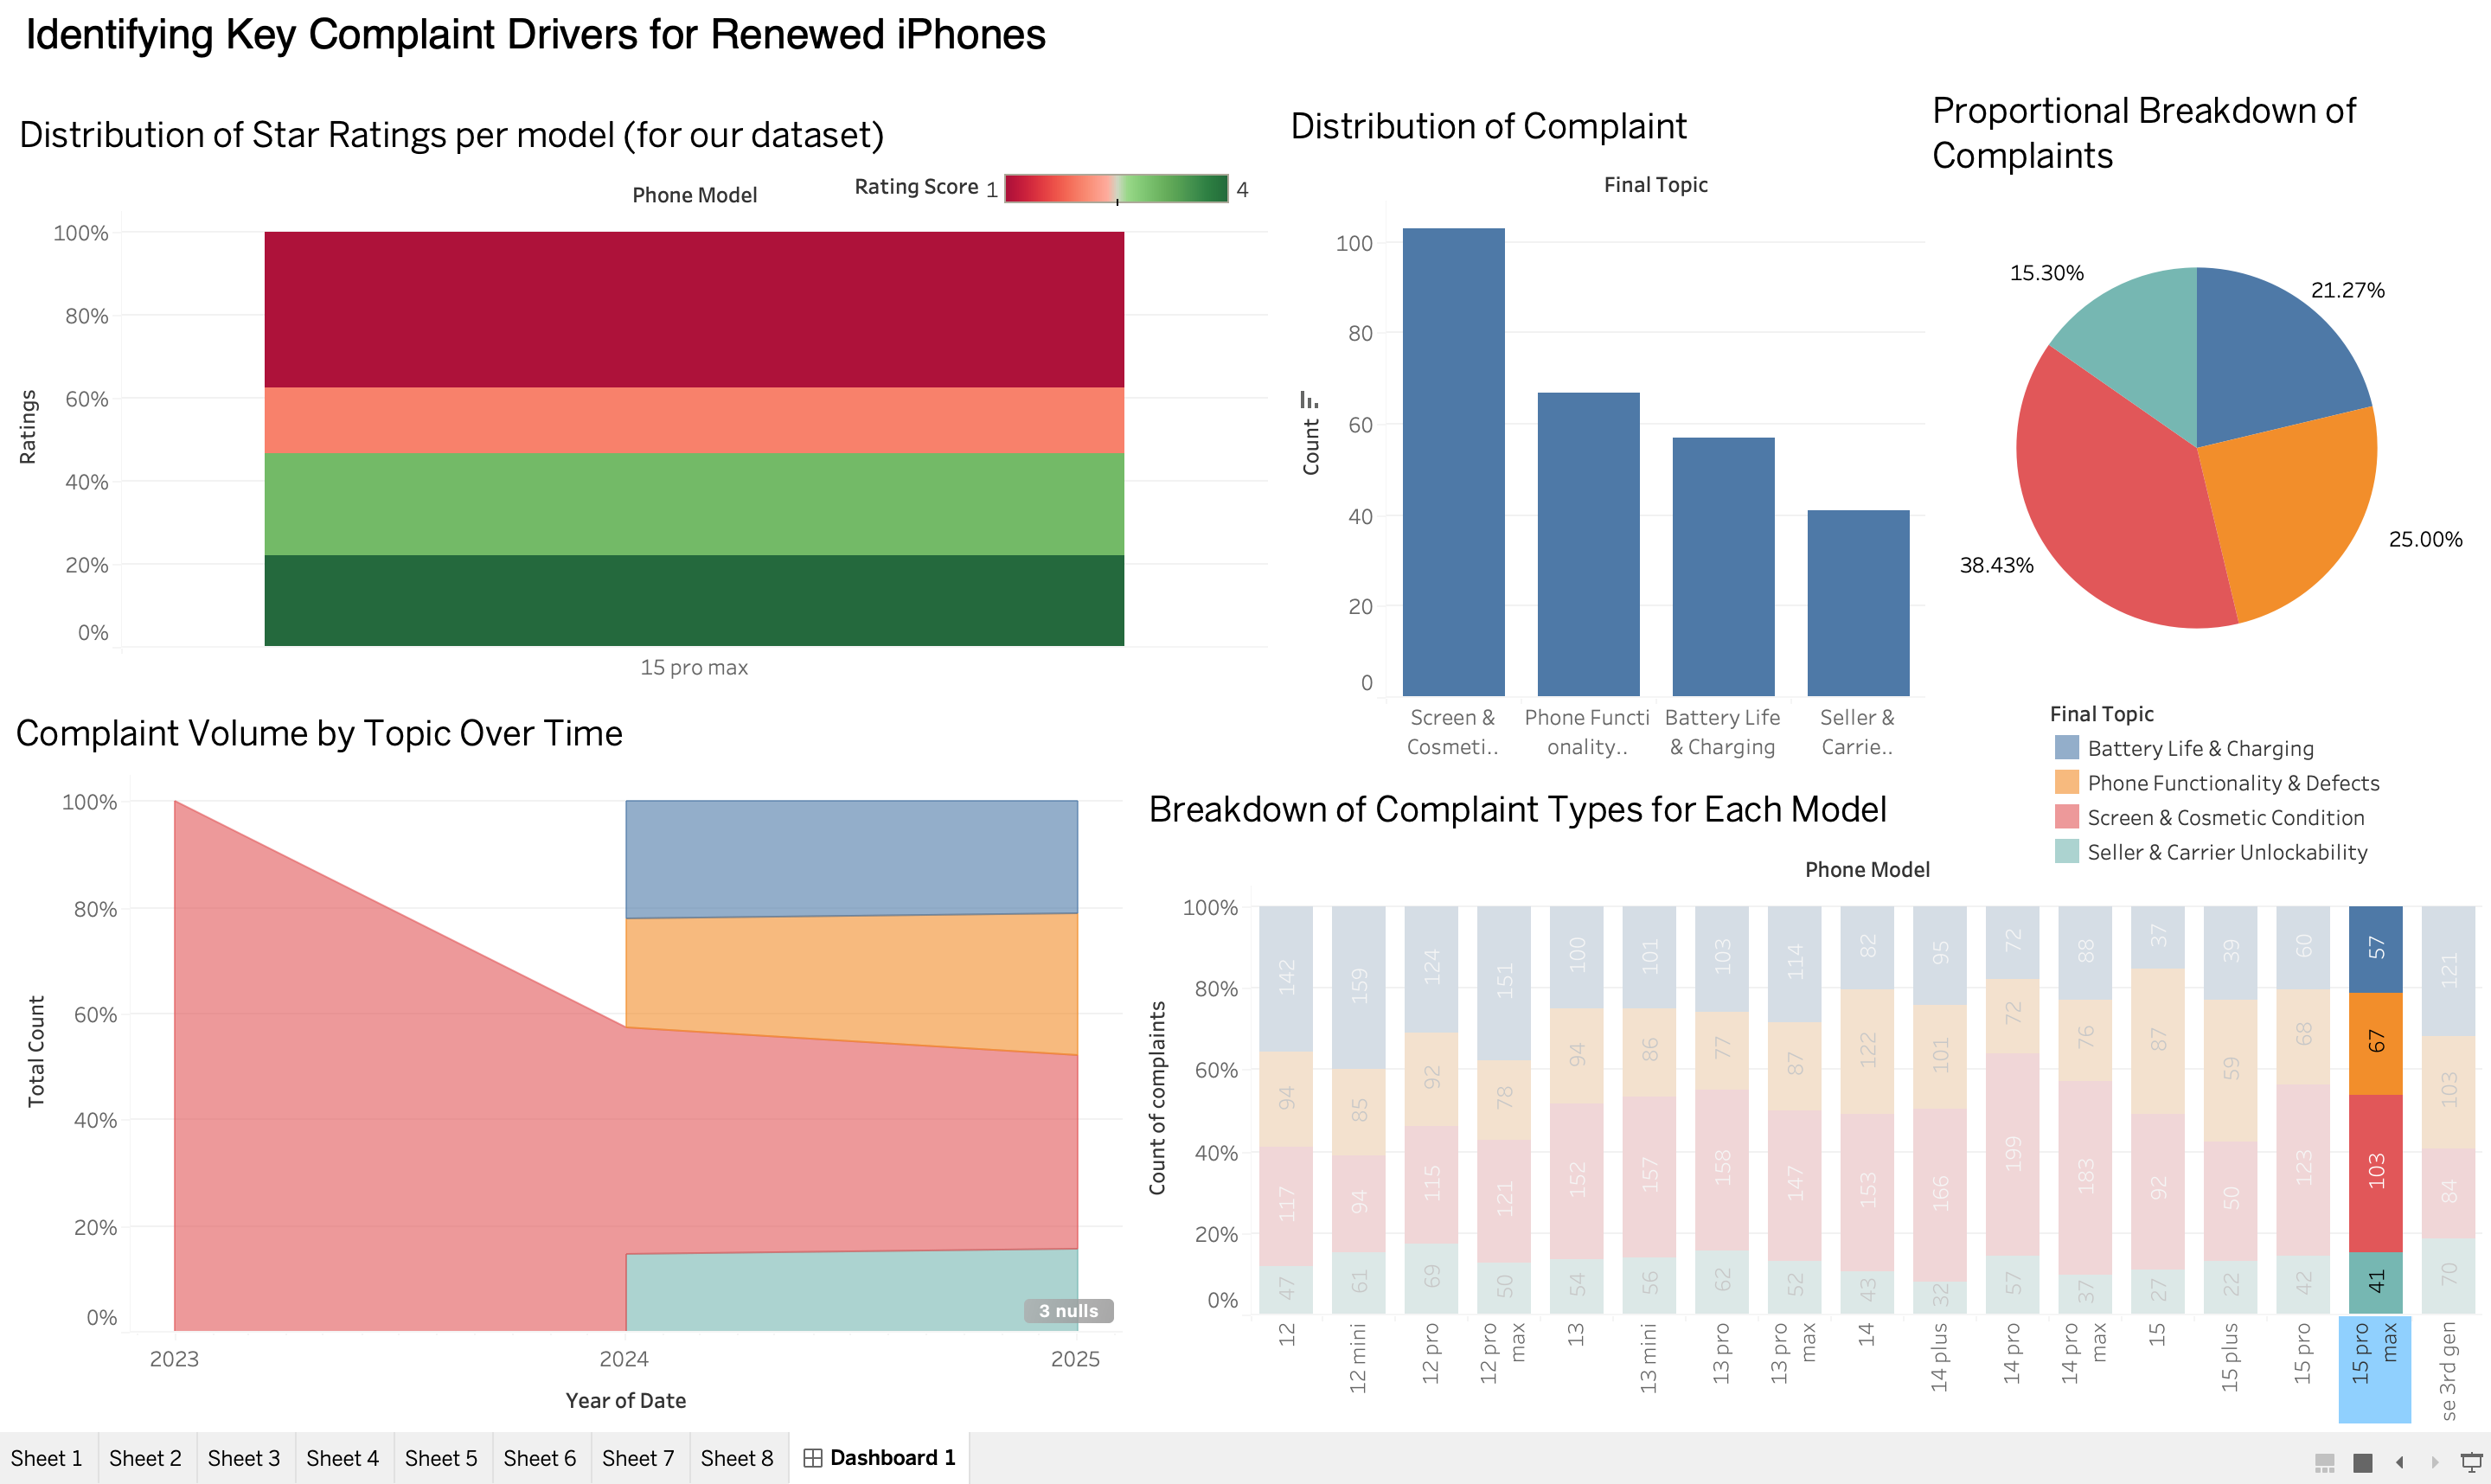

The page's visual inventory and layout, read from the dashboard file:
{"tool":"tableau","page":{"name":"Dashboard 1","canvas":[1000,1000],"units":"permille","ordinal":0},"visuals":[{"type":"title","box":[6.5,10.4,987,41.7]},{"type":"worksheet","title":"Sheet 2","mark":"Pie","box":[773,58.6,218.1,429.7]},{"type":"worksheet","title":"Sheet 1","mark":"Automatic","rows":["dashboard_ready_data.csv_B38BA18D6B454ACE9A420E0065C7907D"],"cols":["final_topic"],"box":[515,70.3,257.9,466.2]},{"type":"worksheet","title":"Sheet 5","mark":"Automatic","cols":["Calculation_100556971031543809"],"box":[4.9,75.5,504.5,425.8]},{"type":"legend","title":"Sheet 5","param":"[federated.1mf78hi1ex3jng1btt0pn013t43u].[none:ratingScore:qk]","box":[343.4,119.8,161.9,36.5]},{"type":"legend","title":"Sheet 4","param":"[federated.1mf78hi1ex3jng1btt0pn013t43u].[none:final_topic:nk]","box":[822.6,489.6,170.1,130.2]},{"type":"worksheet","title":"Sheet 4","mark":"Area","cols":["date"],"box":[3.2,492.2,447.5,503.9]},{"type":"worksheet","title":"Sheet 3","mark":"Automatic","cols":["Calculation_100556971031543809"],"box":[458.1,545.6,538.6,447.9]}]}

Visuals, with their boxes on the dashboard's canvas, which has no fixed pixel size, in thousandths of its width and height (x1, y1, x2, y2). These are canvas units, not pixel positions in the 2491x1484 screenshot, which may show the page scaled, cropped or inside an application window:
title: x1=6, y1=10, x2=994, y2=52
"Sheet 2" worksheet (Pie marks): x1=773, y1=59, x2=991, y2=488
"Sheet 1" worksheet: x1=515, y1=70, x2=773, y2=536
"Sheet 5" worksheet: x1=5, y1=76, x2=509, y2=501
"Sheet 5" legend: x1=343, y1=120, x2=505, y2=156
"Sheet 4" legend: x1=823, y1=490, x2=993, y2=620
"Sheet 4" worksheet (Area marks): x1=3, y1=492, x2=451, y2=996
"Sheet 3" worksheet: x1=458, y1=546, x2=997, y2=994
